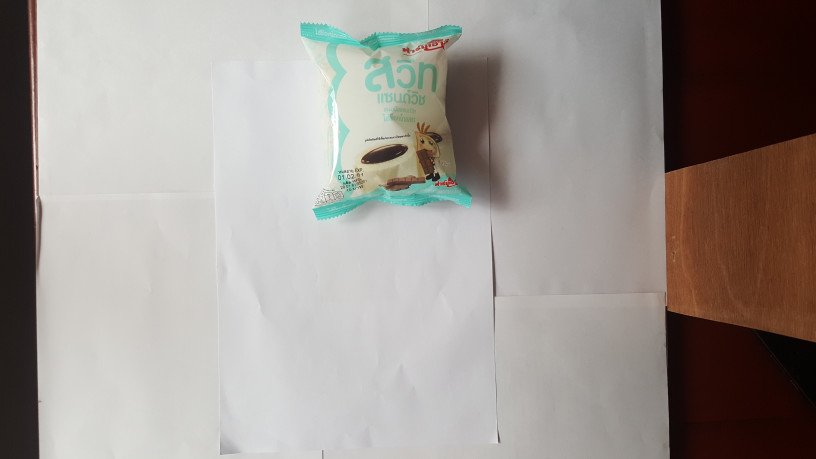farmhouse-sweetsandwich-chocolate: (295, 14, 477, 226)
